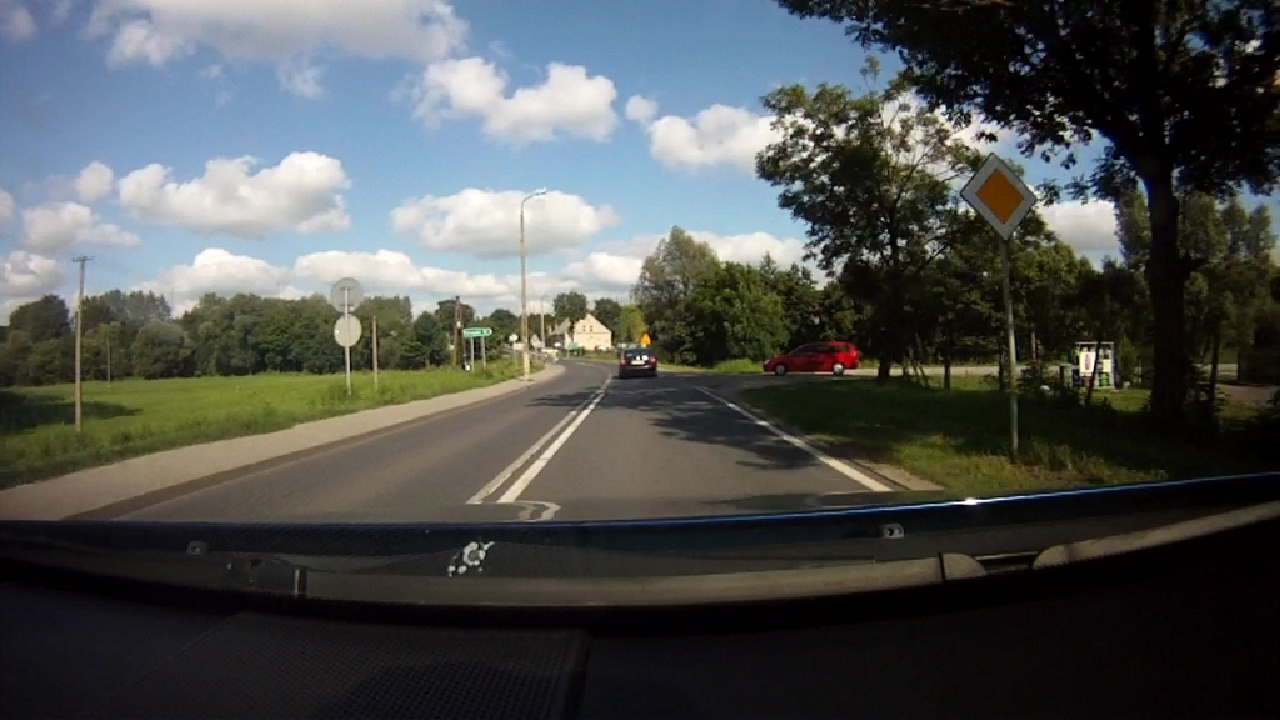D1: (959, 152, 1038, 240)
